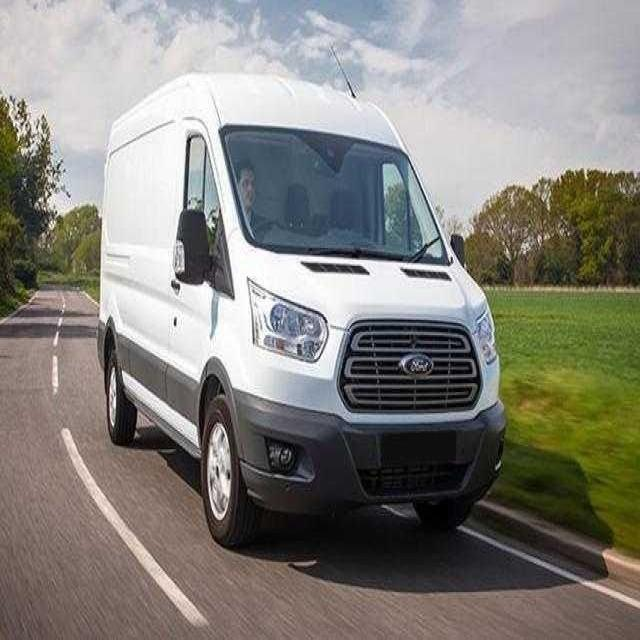Van: (93, 69, 513, 552)
